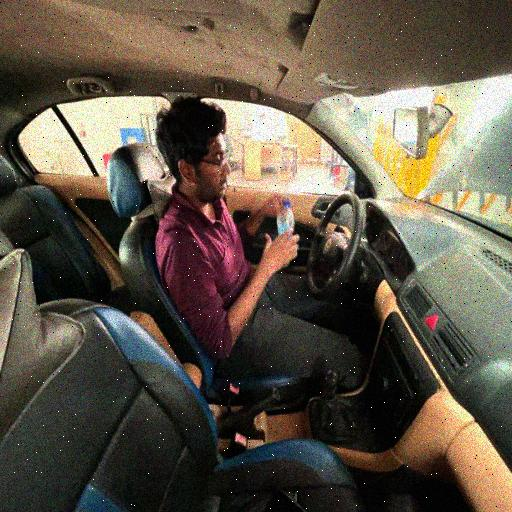Drinking: (154, 99, 334, 377)
